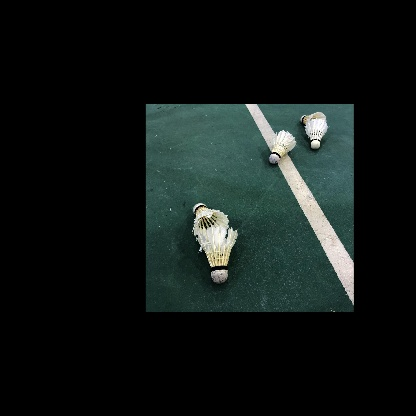ball_single: (197, 226, 238, 284), (193, 203, 230, 239), (269, 130, 296, 164), (305, 118, 328, 150), (300, 112, 327, 128)
